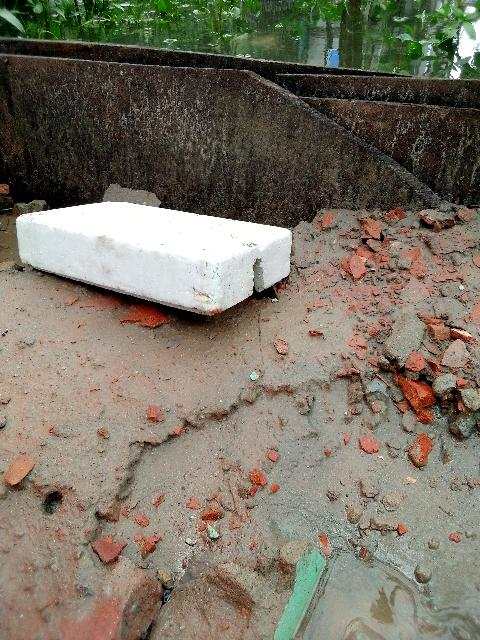cocksheet: (13, 180, 304, 336)
